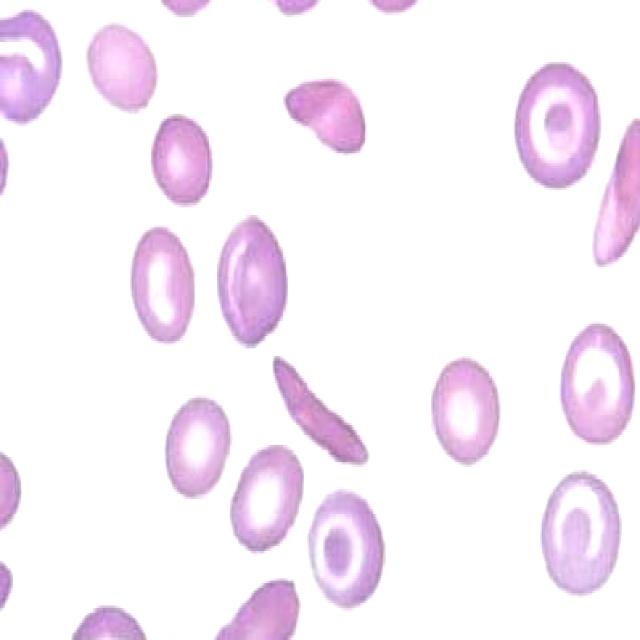RBC: (532, 462, 632, 605), (508, 54, 603, 196), (304, 477, 395, 615), (553, 316, 640, 452), (428, 348, 505, 474), (124, 225, 199, 348)
sickle cell: (264, 348, 391, 482)
